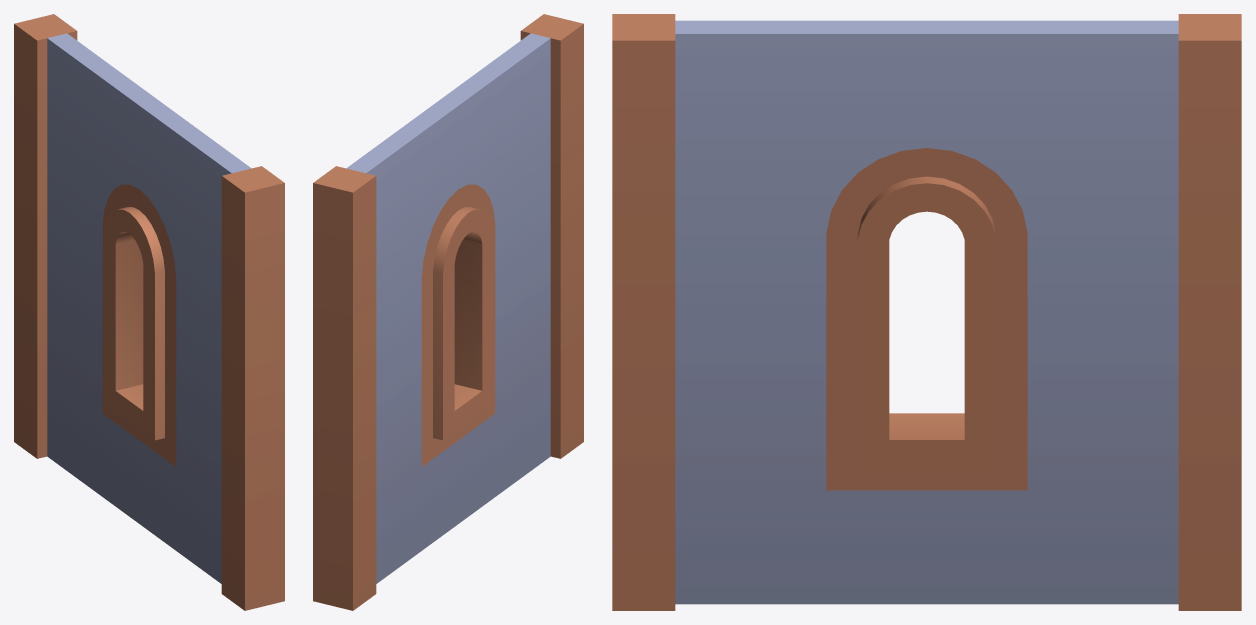
Rendered from wall-window-round.glb.
3 views of the same model, side by side, from view 1: azimuth 30°, elevation 25°; view 2: azimuth 150°, elevation 25°; view 3: azimuth 270°, elevation 25° (orthographic). The views are drawn at different scales.
Parts seen in each view (by area): view 1: wall-window-round; view 2: wall-window-round; view 3: wall-window-round.
Boxes of the visible parts, box(x1,y1,x2,y2) form: wall-window-round: box(14, 14, 284, 610); wall-window-round: box(313, 14, 583, 610); wall-window-round: box(612, 14, 1241, 610).
Size of the model in its own units: 0.1 by 1 by 1.
1 material, 1 textured.
